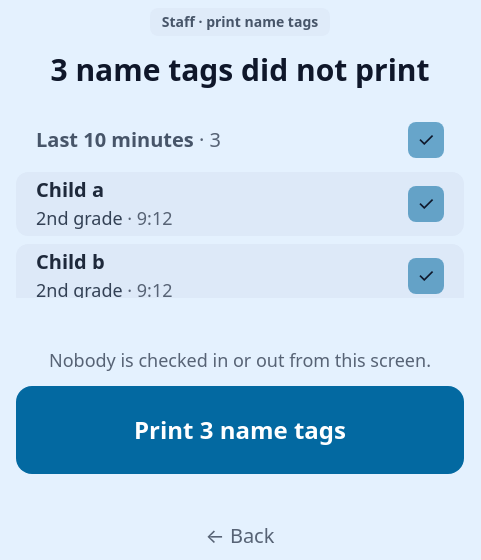
Test: the ticks › turns a row off and back on, and counts what it says
Press the mouse on the text "Child b" at (70, 262), box [36,248,105,276]
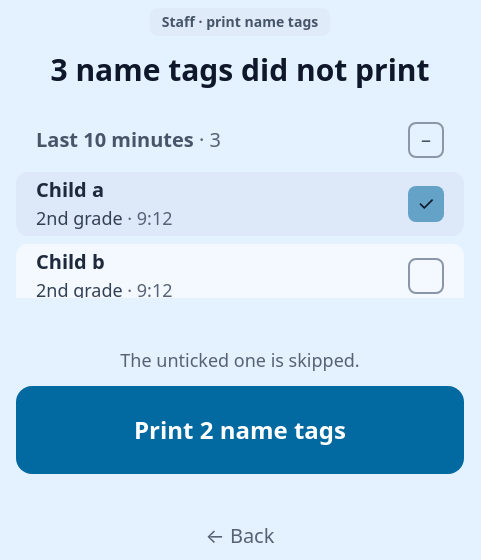
Now the button "Print 2 name tags" is shown, box [16,386,464,474]
Press the mouse on the text "Child b" at (70, 262), box [36,248,105,276]
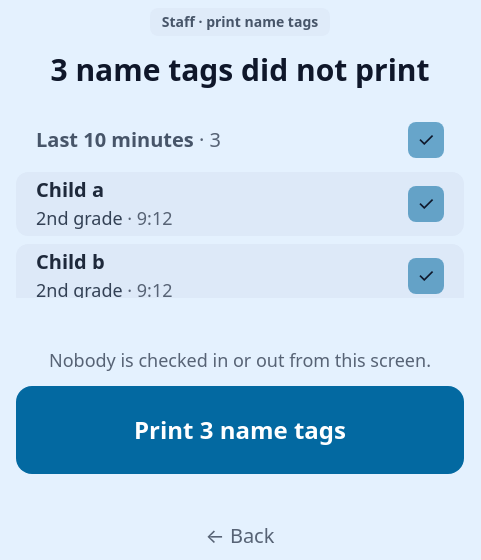
Now the button "Print 3 name tags" is shown, box [16,386,464,474]
